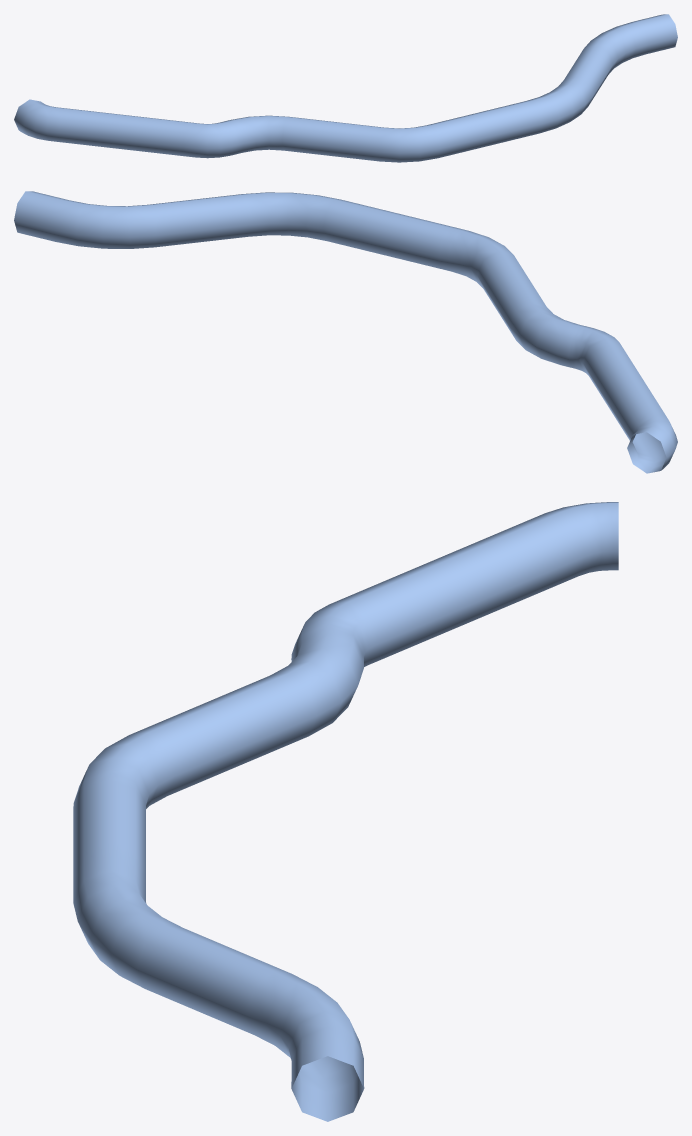
File: PipeComplexSmall_B_04.fbx
The picture shows the model from 3 angles, top to bottom: view 1: azimuth 30°, elevation 25°; view 2: azimuth 150°, elevation 25°; view 3: azimuth 270°, elevation 25°; orthographic projection. The views are drawn at different scales.
Parts seen in each view (by area): view 1: PipeComplexSmall_B_04.001; view 2: PipeComplexSmall_B_04.001; view 3: PipeComplexSmall_B_04.001.
Boxes of the visible parts, box(x1,y1,x2,y2) form: PipeComplexSmall_B_04.001: box(14, 14, 677, 162); PipeComplexSmall_B_04.001: box(14, 191, 677, 473); PipeComplexSmall_B_04.001: box(73, 502, 618, 1121).
Size of the model in its own units: 1.85 by 0.1 by 0.75.
